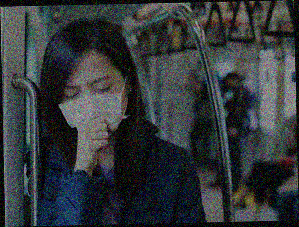with_mask: (61, 75, 128, 139)
